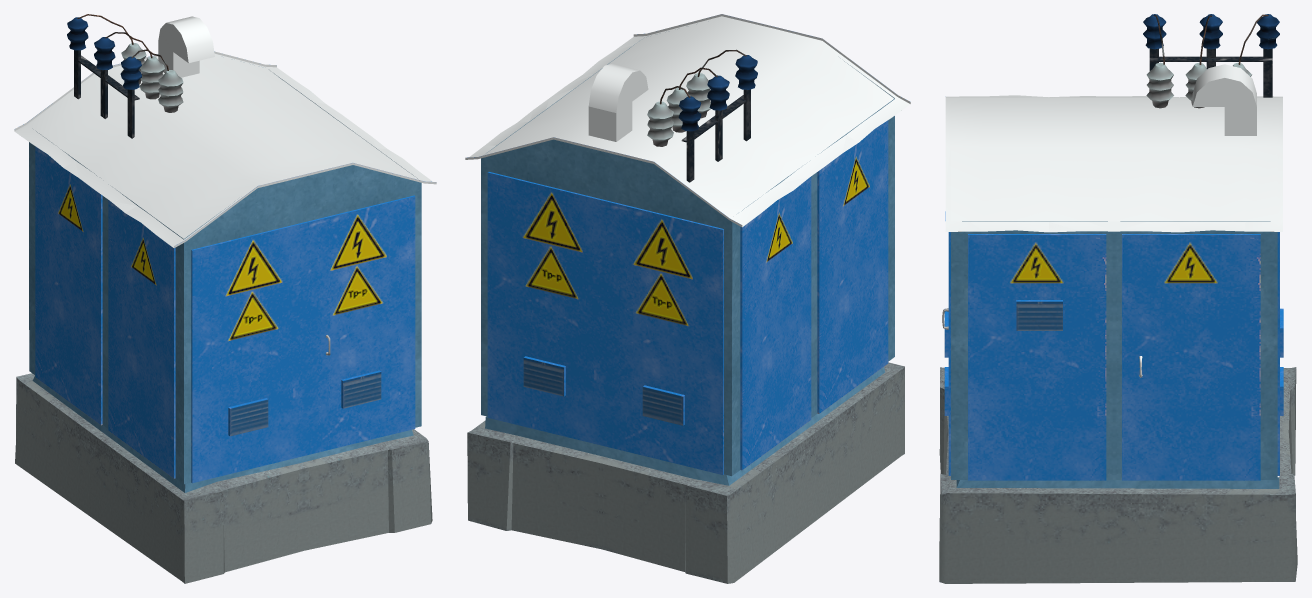
Rendered from Transformator.fbx.
3 views of the same model, side by side, from view 1: azimuth 30°, elevation 25°; view 2: azimuth 150°, elevation 25°; view 3: azimuth 270°, elevation 25° (orthographic). The views are drawn at different scales.
Visible parts, largest first — view 1: Transformator; view 2: Transformator; view 3: Transformator.
Part boxes in pixels (<box>): Transformator: <box>14,14,436,583</box>; Transformator: <box>465,14,910,583</box>; Transformator: <box>939,14,1297,583</box>.
Size of the model in its own units: 2.49 by 4.02 by 2.78.
